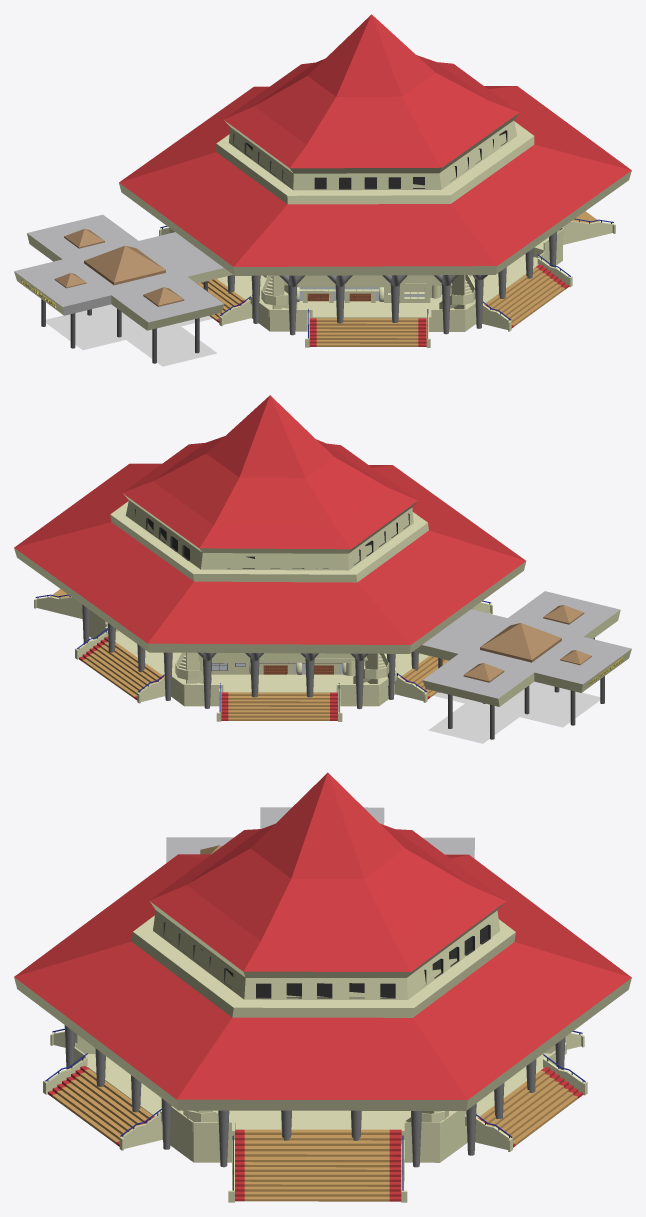
Rendered from graha.fbx.
3 views of the same model, one above another, from view 1: azimuth 30°, elevation 25°; view 2: azimuth 150°, elevation 25°; view 3: azimuth 270°, elevation 25° (orthographic). The views are drawn at different scales.
Parts seen in each view (by area): view 1: Plane.016_Plane.019, plafondepan_Cube, Cylinder, tangga.010_Cylinder.024, tangga.011_Cylinder.025, Plane.012_Plane.025, Plane.011_Plane.024, sampingnya_depan_Plane.000, piramid1_Cube.001, tangga.009_Cylinder.023, Plane.008, tangga.006_Cylinder.000 (+7 smaller); view 2: Plane.016_Plane.019, plafondepan_Cube, Cylinder, tangga.008_Cylinder.022, tangga.007_Cylinder.021, Plane.011_Plane.024, Plane.012_Plane.025, piramid1_Cube.001, sampingnya_depan.001_Plane.010, tangga.009_Cylinder.023, tangga.006_Cylinder.000, Plane.004 (+4 smaller); view 3: Plane.016_Plane.019, tangga.006_Cylinder.000, Cylinder, tangga.011_Cylinder.025, tangga.007_Cylinder.021, plafondepan_Cube.
Part boxes in pixels (<box>): Plane.016_Plane.019: <box>119,14,631,275</box>; plafondepan_Cube: <box>14,214,232,330</box>; Cylinder: <box>217,227,563,331</box>; tangga.010_Cylinder.024: <box>305,309,430,347</box>; tangga.011_Cylinder.025: <box>482,254,572,331</box>; Plane.012_Plane.025: <box>46,304,212,350</box>; Plane.011_Plane.024: <box>126,323,217,366</box>; sampingnya_depan_Plane.000: <box>296,285,430,302</box>; piramid1_Cube.001: <box>84,245,165,285</box>; tangga.009_Cylinder.023: <box>197,279,252,326</box>; Plane.008: <box>284,275,451,285</box>; tangga.006_Cylinder.000: <box>563,211,615,244</box>; Plane.016_Plane.019: <box>14,395,526,653</box>; plafondepan_Cube: <box>413,591,631,706</box>; Cylinder: <box>89,610,428,706</box>; tangga.008_Cylinder.022: <box>216,683,342,721</box>; tangga.007_Cylinder.021: <box>75,628,165,703</box>; Plane.011_Plane.024: <box>428,681,559,743</box>; Plane.012_Plane.025: <box>433,682,600,727</box>; piramid1_Cube.001: <box>480,623,561,662</box>; sampingnya_depan.001_Plane.010: <box>200,660,349,675</box>; tangga.009_Cylinder.023: <box>395,656,448,702</box>; tangga.006_Cylinder.000: <box>34,589,82,618</box>; Plane.004: <box>198,653,366,660</box>; Plane.016_Plane.019: <box>14,772,631,1110</box>; tangga.006_Cylinder.000: <box>228,1121,407,1202</box>; Cylinder: <box>74,1042,566,1162</box>; tangga.011_Cylinder.025: <box>43,1053,162,1150</box>; tangga.007_Cylinder.021: <box>475,1054,587,1151</box>; plafondepan_Cube: <box>166,807,474,862</box>.
Size of the model in its own units: 55.54 by 23.94 by 43.52.
